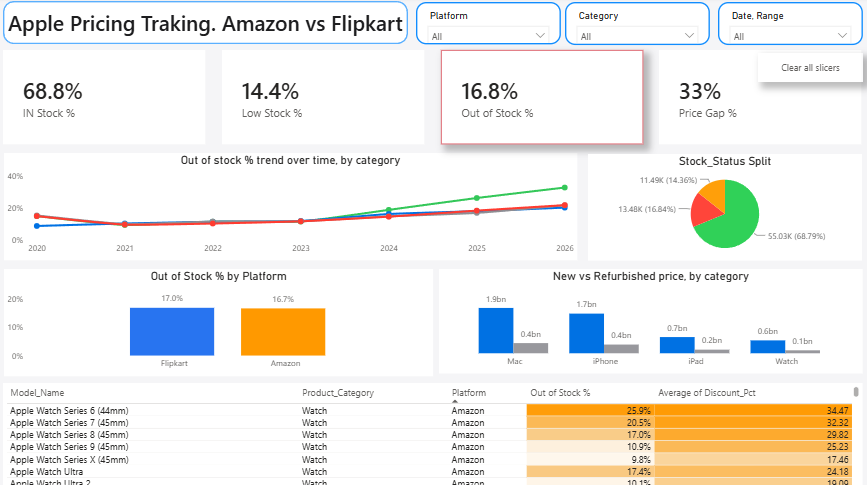

The page's visual inventory and layout, read from the dashboard file:
{"tool":"powerbi","page":{"name":"Stock health & product condition","canvas":[1280,720],"ordinal":2},"visuals":[{"type":"shape","box":[8.1,6.5,592.6,63.1],"z":0},{"type":"slicer","fields":{"Values":["apple_products_pricing_2020_2026.Product_Category"]},"box":[831.7,6.7,212.1,63.1],"z":1000},{"type":"slicer","fields":{"Values":["apple_products_pricing_2020_2026.Year","apple_products_pricing_2020_2026.Month Name"]},"box":[1055,6.7,212.1,63.1],"z":2000},{"type":"slicer","fields":{"Values":["apple_products_pricing_2020_2026.Platform"]},"box":[613.3,6.7,211.7,61.7],"z":3000},{"type":"lineChart","title":"Out of stock % trend over time, by category","fields":{"Category":["apple_products_pricing_2020_2026.Year"],"Series":["apple_products_pricing_2020_2026.Product_Category"],"Y":["apple_products_pricing_2020_2026.Out of Stock %"]},"box":[10.3,228,838.6,157.4],"z":4000},{"type":"clusteredColumnChart","fields":{"Category":["apple_products_pricing_2020_2026.Platform"],"Y":["apple_products_pricing_2020_2026.Out of Stock %"]},"box":[10,398.3,628.3,156.7],"z":6000},{"type":"clusteredColumnChart","title":"New vs Refurbished price, by category","fields":{"Category":["apple_products_pricing_2020_2026.Product_Category"],"Series":["apple_products_pricing_2020_2026.Condition"],"Y":["Sum(apple_products_pricing_2020_2026.Current_Price_INR)"]},"box":[646.7,398.3,620,153.3],"z":7000},{"type":"cardVisual","fields":{"Data":["apple_products_pricing_2020_2026.IN Stock %"]},"box":[9.2,77.2,296.1,137.9],"z":9000},{"type":"cardVisual","fields":{"Data":["apple_products_pricing_2020_2026.Low Stock %"]},"box":[329.2,77.2,296.1,137.9],"z":9001},{"type":"cardVisual","fields":{"Data":["apple_products_pricing_2020_2026.Out of Stock %"]},"box":[649.2,77.2,296.1,137.9],"z":9002},{"type":"cardVisual","fields":{"Data":["apple_products_pricing_2020_2026.Price Gap %"]},"box":[969.2,77.2,296.1,137.9],"z":9003},{"type":"pieChart","title":"Stock_Status Split","fields":{"Category":["apple_products_pricing_2020_2026.Stock_Status"],"Y":["CountNonNull(apple_products_pricing_2020_2026.Date)"]},"box":[864.4,229.9,400.9,156.3],"z":9004},{"type":"tableEx","fields":{"Values":["apple_products_pricing_2020_2026.Model_Name","apple_products_pricing_2020_2026.Product_Category","apple_products_pricing_2020_2026.Platform","apple_products_pricing_2020_2026.Out of Stock %","Avg(apple_products_pricing_2020_2026.Discount_Pct)"]},"box":[9.2,564.6,1257.9,156.3],"z":9005},{"type":"actionButton","box":[1113.7,82,153.7,42.4],"z":9006}]}

Visuals, with their boxes in screenshot pixels (x1, y1, x2, y2), scaled from the page's 1280x720 canvas onto the 867x485 screenshot:
shape: bbox(5, 4, 407, 47)
slicer - apple_products_pricing_2020_2026.Product_Category: bbox(563, 5, 707, 47)
slicer - apple_products_pricing_2020_2026.Year x apple_products_pricing_2020_2026.Month Name: bbox(715, 5, 858, 47)
slicer - apple_products_pricing_2020_2026.Platform: bbox(415, 5, 559, 46)
"Out of stock % trend over time, by category" lineChart: bbox(7, 154, 575, 260)
clusteredColumnChart - apple_products_pricing_2020_2026.Platform x apple_products_pricing_2020_2026.Out of Stock %: bbox(7, 268, 432, 374)
"New vs Refurbished price, by category" clusteredColumnChart: bbox(438, 268, 858, 372)
cardVisual - apple_products_pricing_2020_2026.IN Stock %: bbox(6, 52, 207, 145)
cardVisual - apple_products_pricing_2020_2026.Low Stock %: bbox(223, 52, 424, 145)
cardVisual - apple_products_pricing_2020_2026.Out of Stock %: bbox(440, 52, 640, 145)
cardVisual - apple_products_pricing_2020_2026.Price Gap %: bbox(656, 52, 857, 145)
"Stock_Status Split" pieChart: bbox(585, 155, 857, 260)
tableEx - apple_products_pricing_2020_2026.Model_Name x apple_products_pricing_2020_2026.Product_Category: bbox(6, 380, 858, 484)
actionButton: bbox(754, 55, 858, 84)
